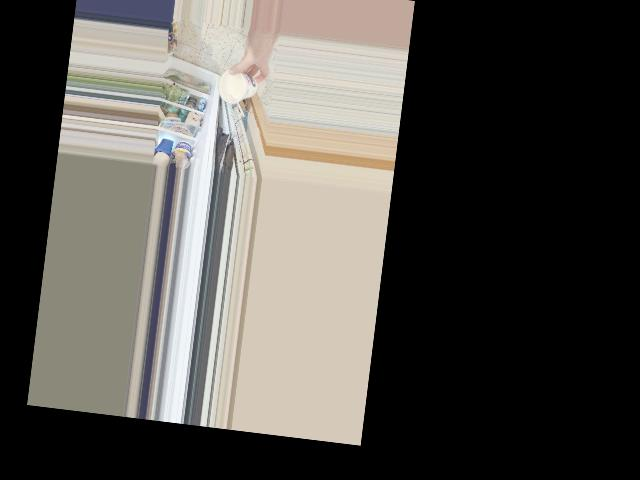cotage: (217, 67, 258, 106)
